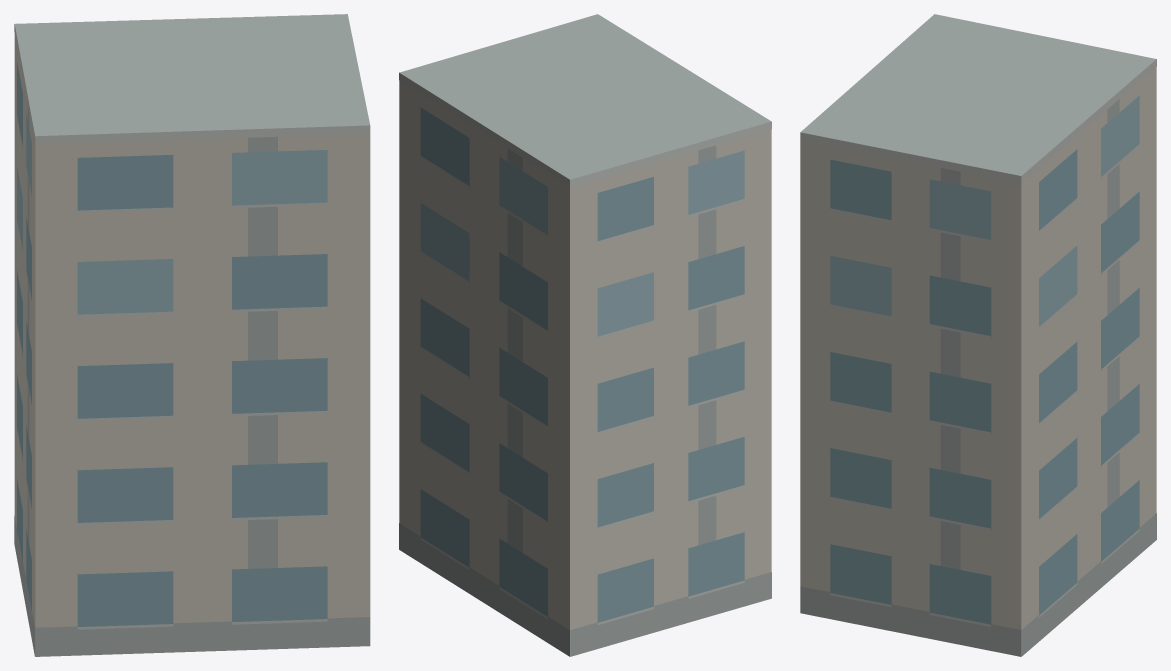
File: survey-upis-32733075.glb
The picture shows the model from 3 angles, left to right: view 1: azimuth 30°, elevation 25°; view 2: azimuth 150°, elevation 25°; view 3: azimuth 270°, elevation 25°; orthographic projection. The views are drawn at different scales.
Visible parts, largest first — view 1: survey-upis-32733075.tmp; view 2: survey-upis-32733075.tmp; view 3: survey-upis-32733075.tmp.
Part boxes in pixels (bbox=[...]): survey-upis-32733075.tmp: bbox=[14, 14, 370, 656]; survey-upis-32733075.tmp: bbox=[399, 14, 771, 656]; survey-upis-32733075.tmp: bbox=[800, 14, 1156, 656].
Size of the model in its own units: 10.92 by 15.1 by 10.15.
